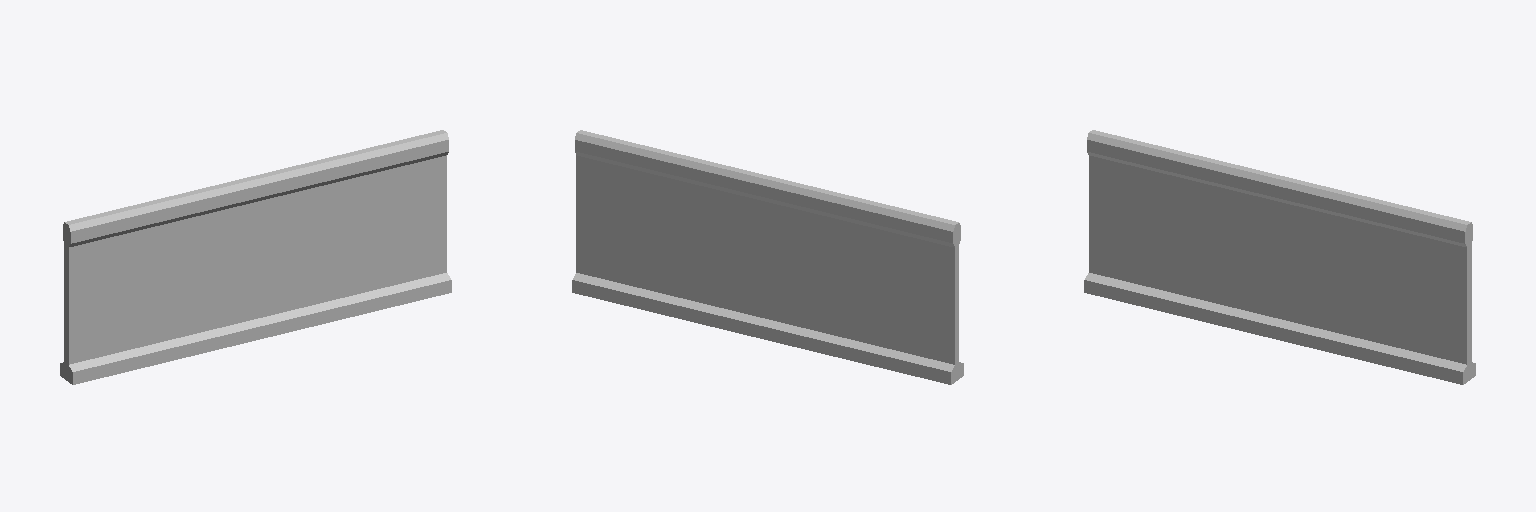
File: wall.obj
3 renders of one model, left to right at view 1: azimuth 30°, elevation 25°; view 2: azimuth 150°, elevation 25°; view 3: azimuth 330°, elevation 25°, orthographic.
Visible parts, largest first — view 1: pCube2; view 2: pCube2; view 3: pCube2.
Part boxes in pixels (left/top/right/bottom): pCube2: left=60, top=130, right=451, bottom=384; pCube2: left=572, top=130, right=963, bottom=384; pCube2: left=1084, top=130, right=1475, bottom=384.
Bounding box in the file's own units: 9.87 × 3.91 × 0.5574.